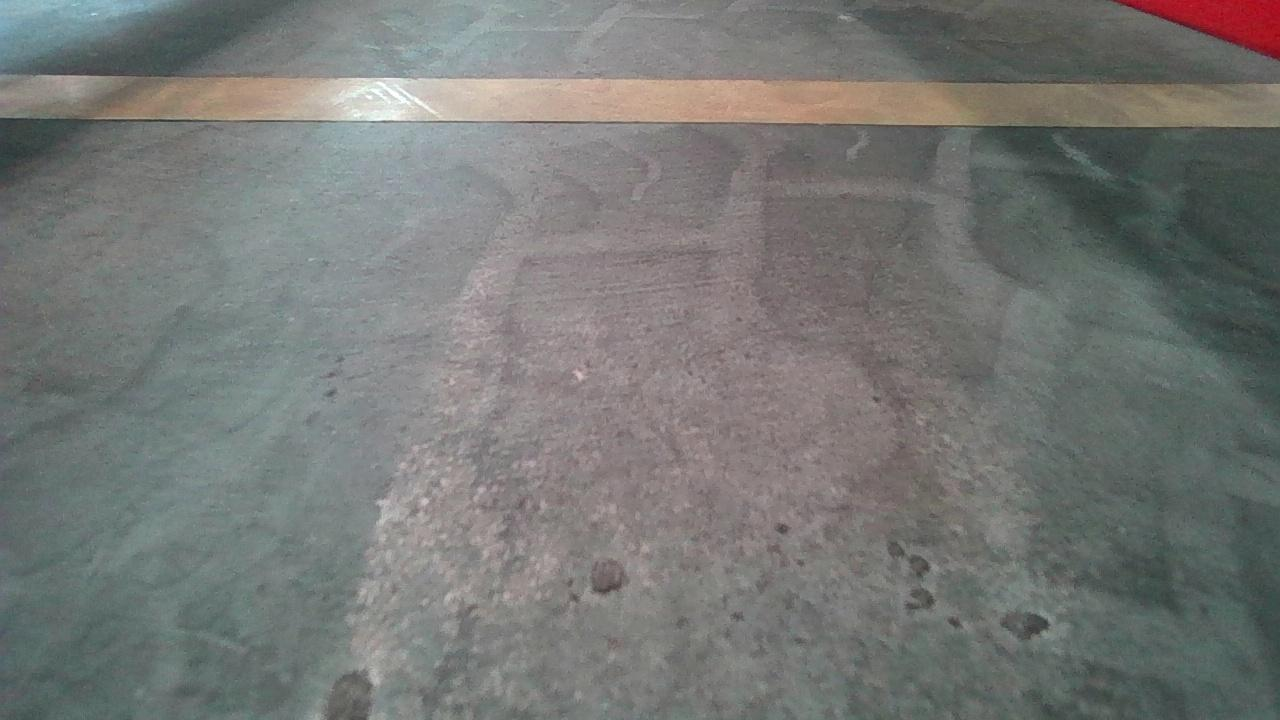yellow_line: (13, 66, 1255, 131)
